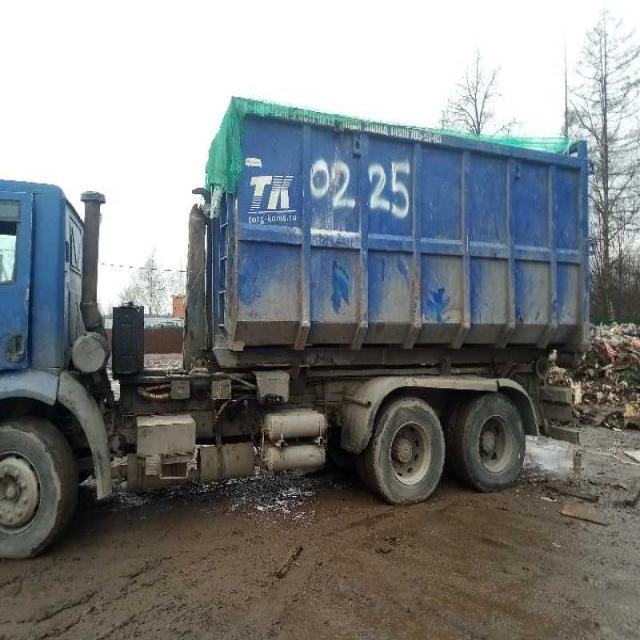Dumpster: (201, 93, 592, 354)
